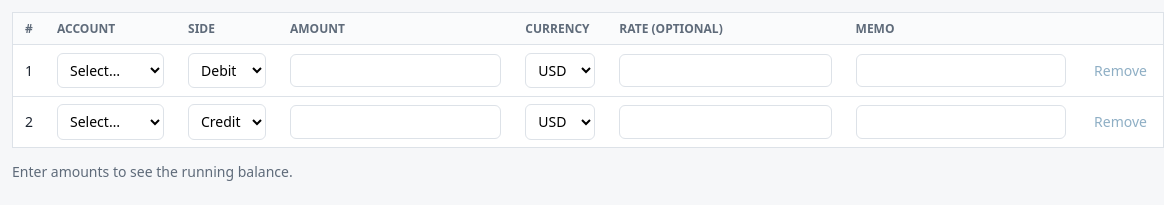
Scenario: journal editor › shows a live balance as amounts are typed and hides header accounts
The width and height of the screenshot is (1164, 205).
Type "250.00" into the field named "Amount line 1".
click(396, 70); type("250.00")  # box [290,54,501,87]
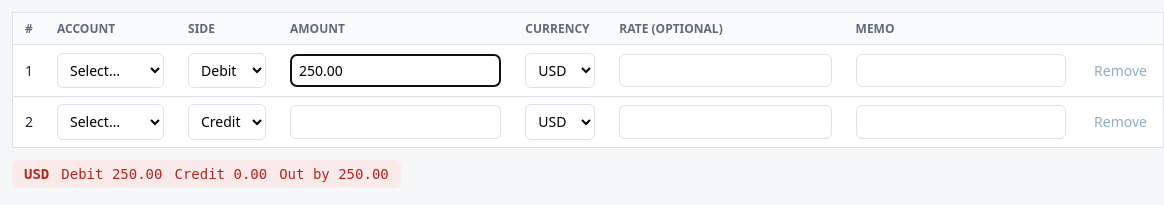
Result: the element with test id "balance-USD" shows "Out by 250.00" at [279,166,389,182]
Type "250" into the field named "Amount line 2".
click(396, 122); type("250")  # box [290,105,501,138]
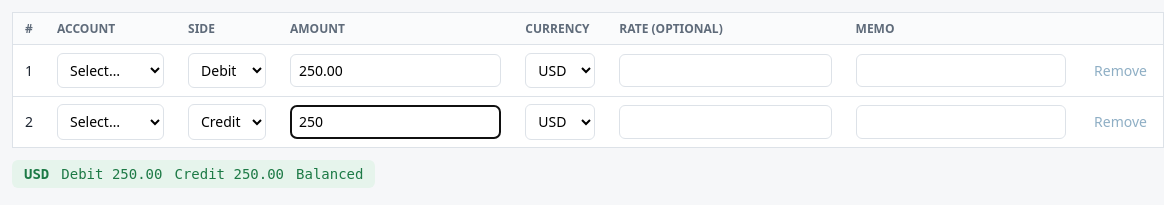
Result: the element with test id "balance-USD" shows "Balanced" at [296,166,363,182]
